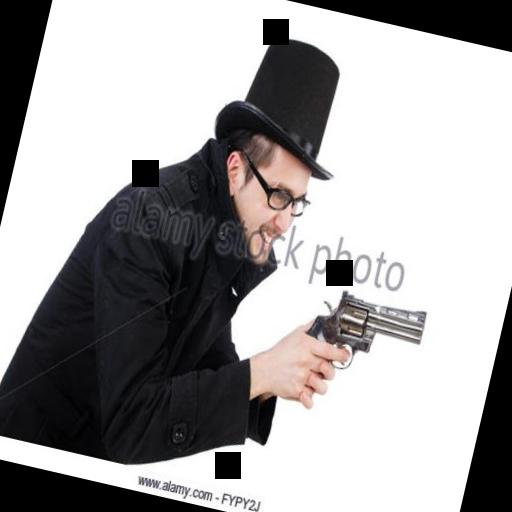Handgun: (292, 281, 428, 384)
